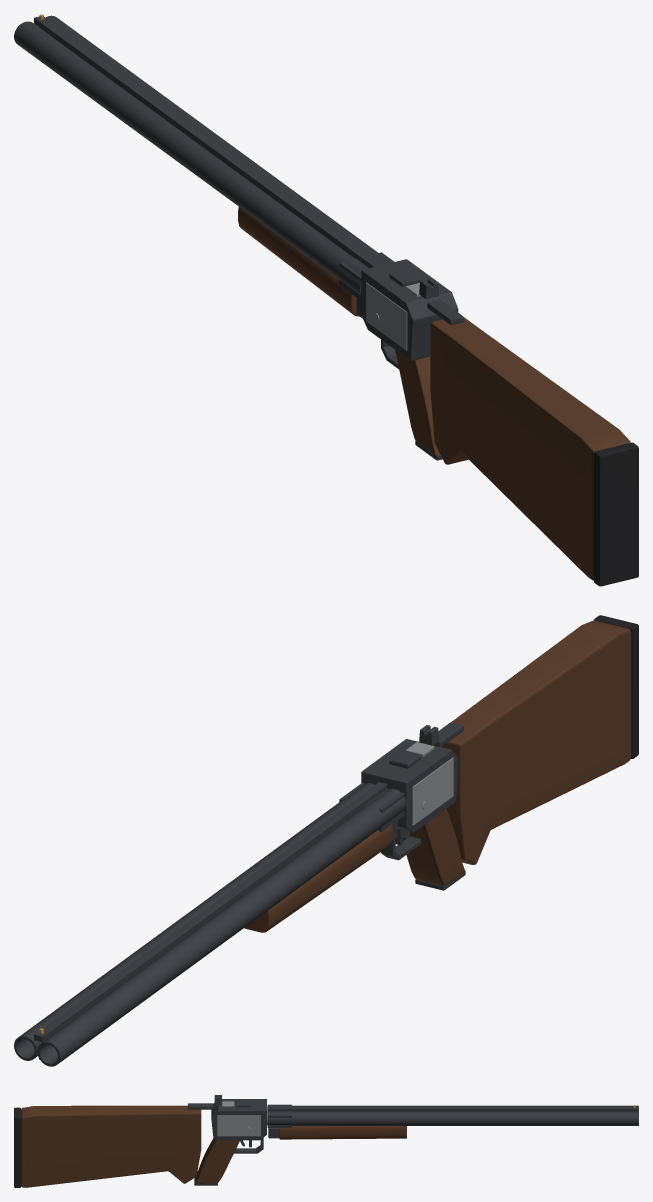
Rendered from wpn_reaper_db.glb.
The picture shows the model from 3 angles, top to bottom: view 1: azimuth 30°, elevation 25°; view 2: azimuth 150°, elevation 25°; view 3: azimuth 270°, elevation 25°; orthographic projection. The views are drawn at different scales.
Visible parts, largest first — view 1: Stock, Barrels, StockPad, Action, Breech, Grip, ActionDetails; view 2: Stock, Barrels, Action, Breech, Grip, ActionDetails, StockPad; view 3: Stock, Barrels, Breech, Action, Grip, ActionDetails, StockPad, TriggerGroup.
Boxes of the visible parts, left/top/right/bottom form: Stock: left=430, top=317, right=630, bottom=580; Barrels: left=14, top=15, right=394, bottom=300; StockPad: left=593, top=442, right=638, bottom=586; Action: left=361, top=259, right=463, bottom=360; Breech: left=238, top=207, right=362, bottom=318; Grip: left=395, top=350, right=440, bottom=455; ActionDetails: left=366, top=282, right=420, bottom=350; Stock: left=441, top=620, right=631, bottom=864; Barrels: left=14, top=782, right=406, bottom=1066; Action: left=361, top=722, right=463, bottom=832; Breech: left=244, top=821, right=397, bottom=932; Grip: left=403, top=809, right=464, bottom=885; ActionDetails: left=405, top=742, right=453, bottom=825; StockPad: left=594, top=615, right=638, bottom=758; Stock: left=21, top=1105, right=201, bottom=1187; Barrels: left=267, top=1104, right=638, bottom=1127; Breech: left=268, top=1126, right=406, bottom=1139; Action: left=188, top=1099, right=266, bottom=1140; Grip: left=195, top=1139, right=239, bottom=1183; ActionDetails: left=217, top=1101, right=260, bottom=1136; StockPad: left=14, top=1107, right=21, bottom=1187; TriggerGroup: left=234, top=1137, right=263, bottom=1153.
Size of the model in its own units: 0.0498 by 0.157 by 1.03.
